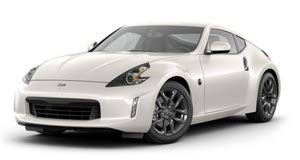Nissan: (16, 32, 273, 139)
